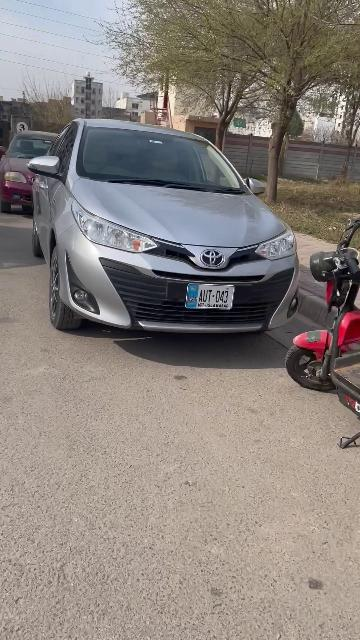plate: (185, 284, 235, 308)
